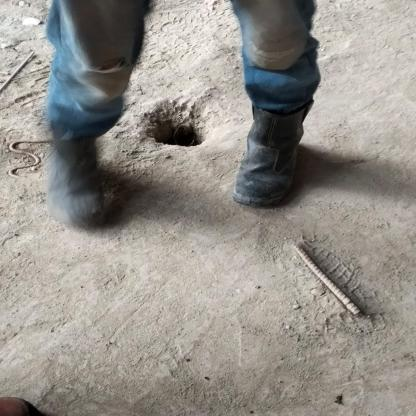bota: (229, 106, 313, 206), (45, 140, 121, 230)
